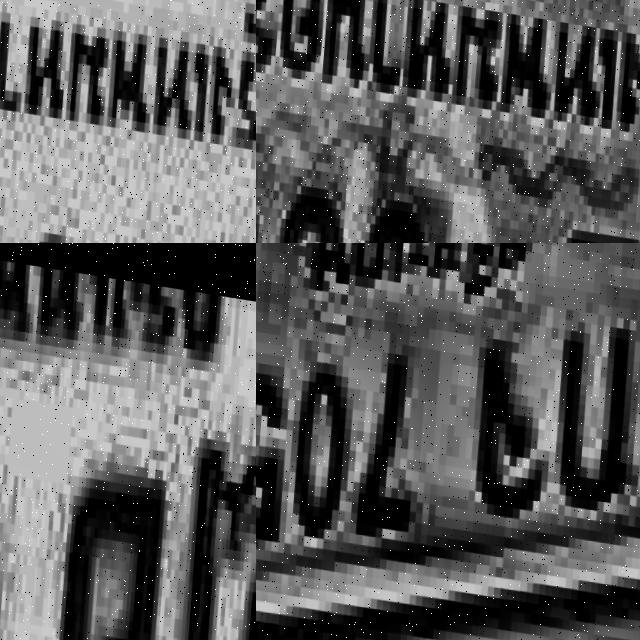license-plate: (256, 243, 640, 640), (0, 243, 256, 640), (256, 0, 640, 243), (0, 0, 256, 243)
